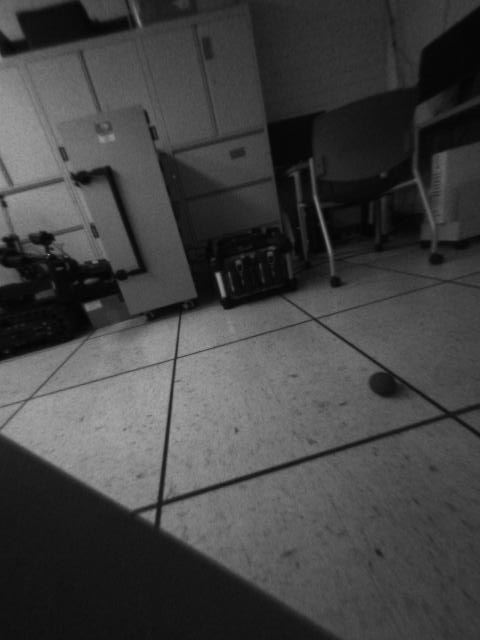dogtoy: (361, 363, 401, 400)
